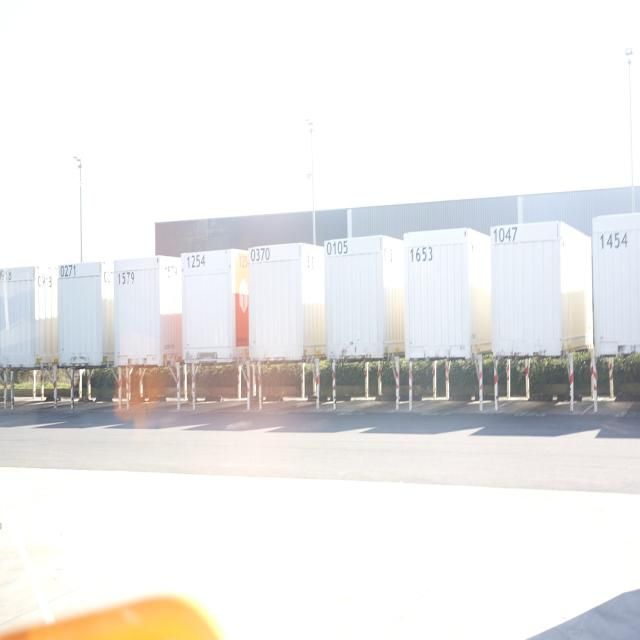Code: (596, 228, 630, 256), (491, 222, 521, 250), (324, 235, 352, 263), (246, 240, 275, 266), (408, 240, 436, 265), (183, 250, 209, 272), (58, 261, 80, 282), (114, 268, 137, 287)
